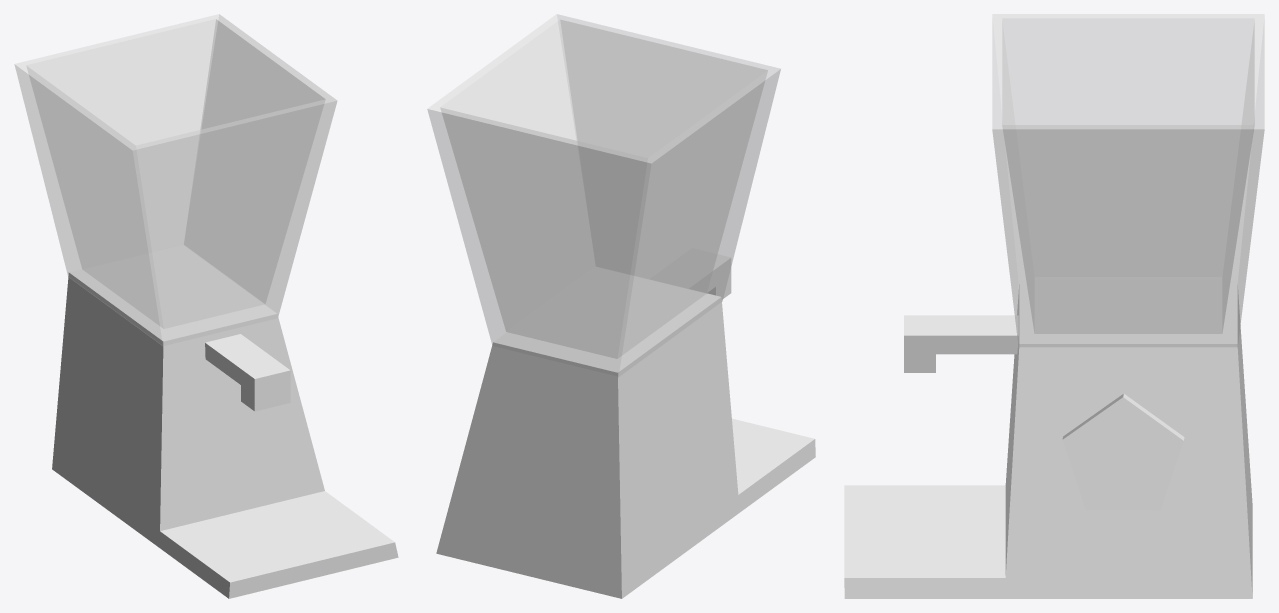
Rendered from Blender.fbx.
3 renders of one model, left to right at view 1: azimuth 30°, elevation 25°; view 2: azimuth 150°, elevation 25°; view 3: azimuth 270°, elevation 25°, orthographic. The views are drawn at different scales.
Visible parts, largest first — view 1: Glass, Machine; view 2: Glass, Machine; view 3: Machine, Glass.
Part boxes in pixels (x1=…): Glass: x1=14, y1=14, x2=337, y2=346; Machine: x1=52, y1=245, x2=398, y2=598; Glass: x1=427, y1=14, x2=780, y2=377; Machine: x1=436, y1=248, x2=815, y2=598; Machine: x1=844, y1=280, x2=1252, y2=598; Glass: x1=992, y1=14, x2=1264, y2=348.
Size of the model in its own units: 200 by 382 by 309.
